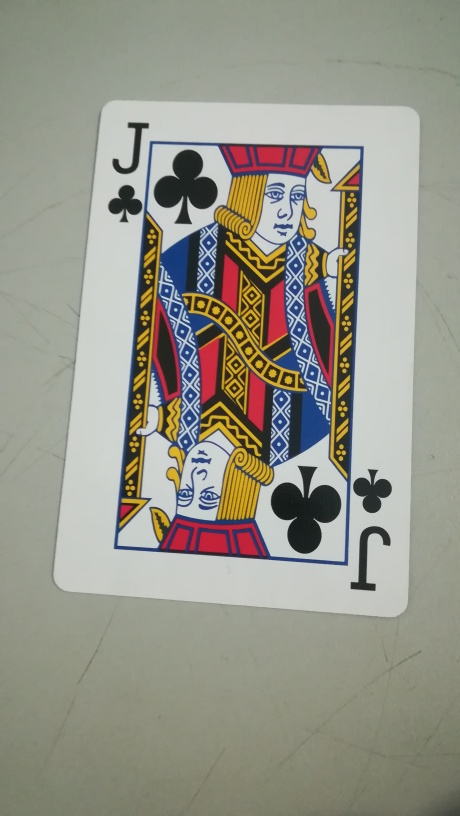mh j: (53, 85, 413, 621)
